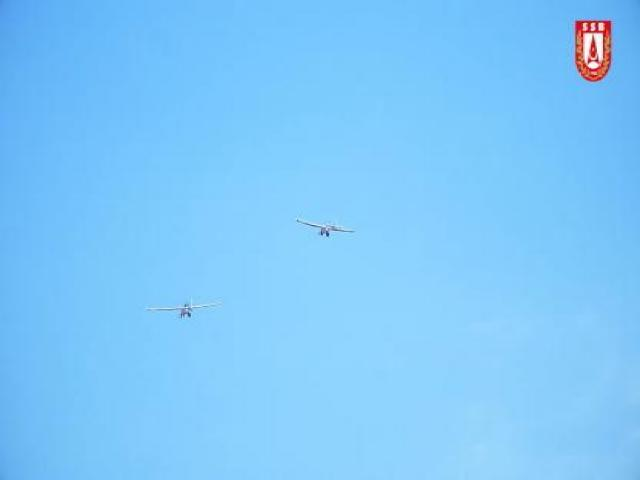uav: (142, 296, 226, 321), (292, 213, 358, 240)
